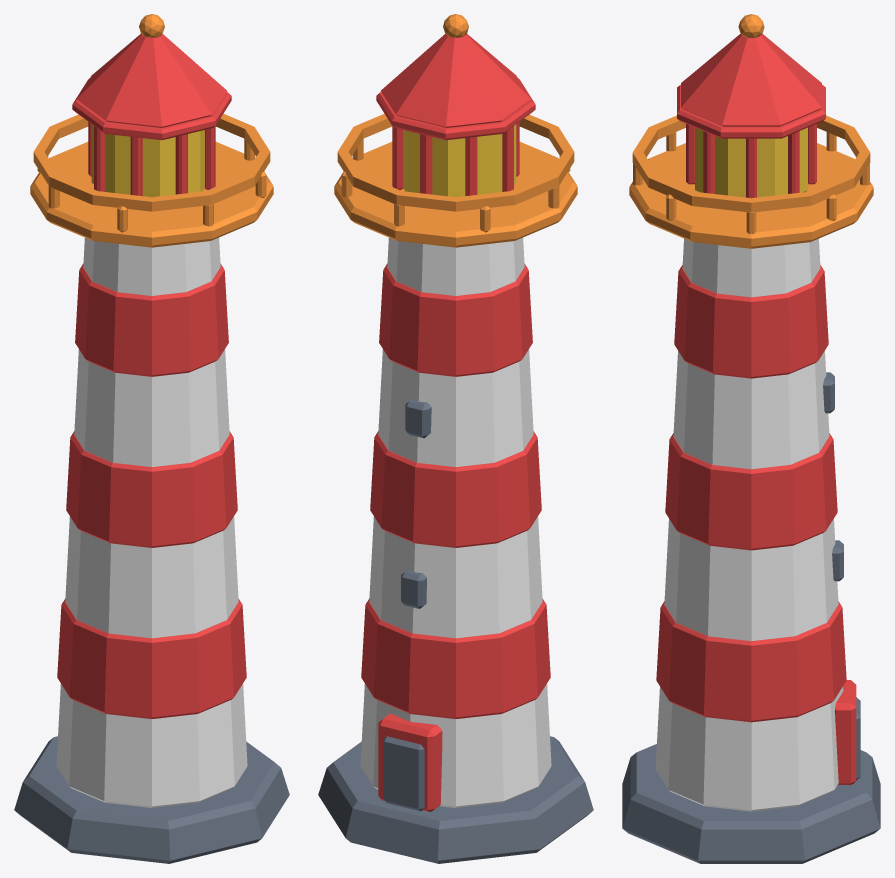
The model's file is Prop_pirate_harbor_Lighthouse.glb.
3 views of the same model, side by side, from view 1: azimuth 30°, elevation 25°; view 2: azimuth 150°, elevation 25°; view 3: azimuth 270°, elevation 25° (orthographic).
Visible parts, largest first — view 1: LighthouseRed_F04848, White_FFFFFF, HarborOrange_FF9A3D, StoneDark_6B7686, Lamp_FFD23F; view 2: LighthouseRed_F04848, White_FFFFFF, StoneDark_6B7686, HarborOrange_FF9A3D, Lamp_FFD23F; view 3: LighthouseRed_F04848, White_FFFFFF, StoneDark_6B7686, HarborOrange_FF9A3D, Lamp_FFD23F.
Boxes of the visible parts, x1,y1,x2,y2 form: LighthouseRed_F04848: (57,33,246,718); White_FFFFFF: (56,237,247,807); HarborOrange_FF9A3D: (30,14,273,247); StoneDark_6B7686: (14,736,289,863); Lamp_FFD23F: (91,124,204,197); LighthouseRed_F04848: (361,33,550,811); White_FFFFFF: (360,237,551,807); StoneDark_6B7686: (318,399,593,863); HarborOrange_FF9A3D: (334,14,577,247); Lamp_FFD23F: (403,124,516,197); LighthouseRed_F04848: (656,33,856,784); White_FFFFFF: (655,238,843,811); StoneDark_6B7686: (622,372,880,863); HarborOrange_FF9A3D: (629,14,873,248); Lamp_FFD23F: (695,127,807,197).
Bounding box in the file's own units: 11.83 × 40.3 × 11.83.
